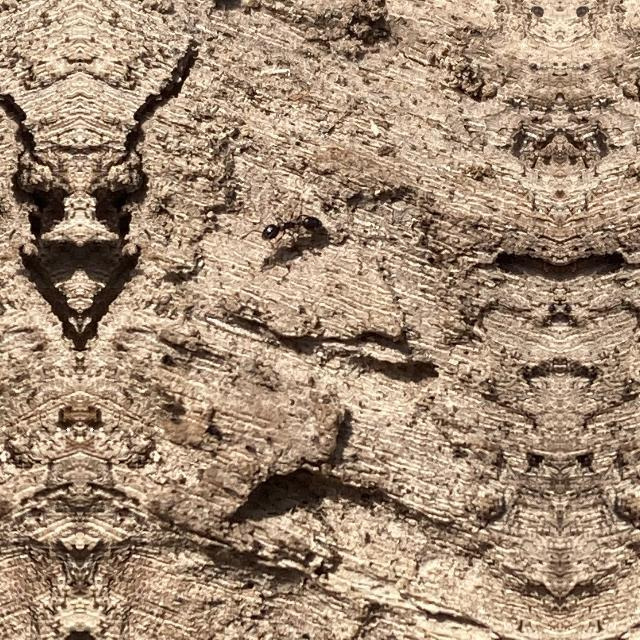Tetramorium: (244, 195, 326, 249)
